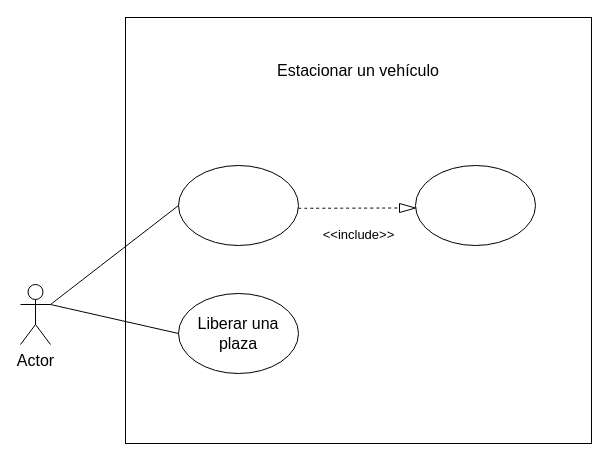
The diagram is 609 pixels wide and 461 high, and some of its shapes have lost their labels. Each missing label, with the box of its shape:
Buscar vehículos / profesor: (414, 164, 536, 246)
Ocupar una plaza: (178, 164, 298, 246)
